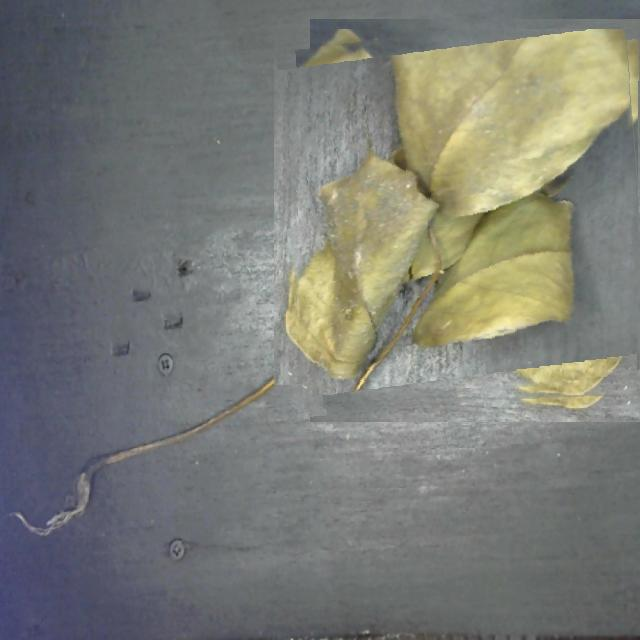biodegradable: (283, 29, 640, 410)
